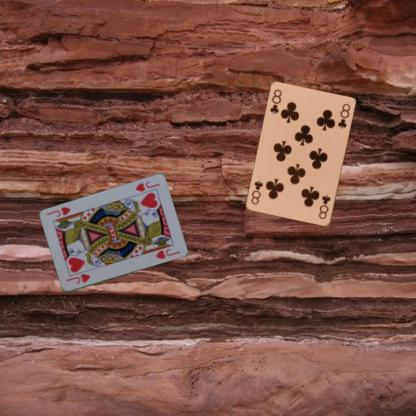8c: (316, 192, 332, 221), (268, 86, 283, 116)
Jh: (133, 179, 161, 193), (64, 272, 91, 286)
